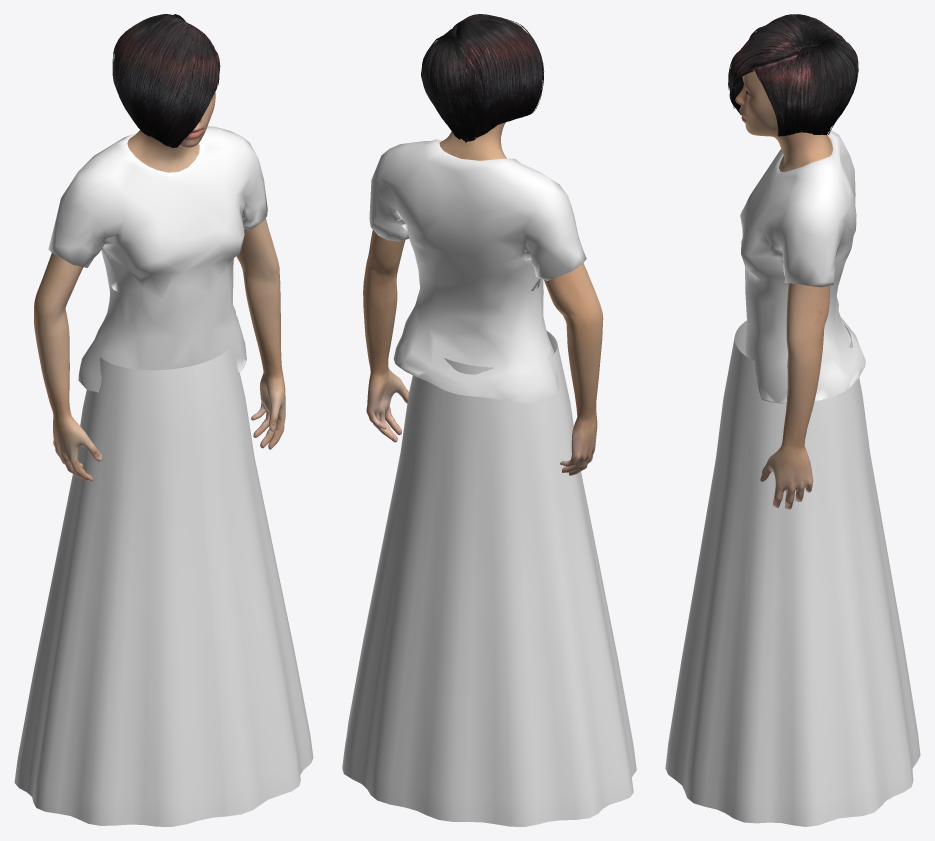
The model's file is woman-gown.glb.
The picture shows the model from 3 angles, left to right: view 1: azimuth 30°, elevation 25°; view 2: azimuth 150°, elevation 25°; view 3: azimuth 270°, elevation 25°; orthographic projection.
Visible parts, largest first — view 1: Draped skirt, female_casualsuit01, Riley | anatomical body, bob01; view 2: Draped skirt, female_casualsuit01, Riley | anatomical body, bob01; view 3: Draped skirt, female_casualsuit01, Riley | anatomical body, bob01.
Part boxes in pixels (box(x1,y1,x2,y2)): Draped skirt: box(14, 347, 313, 826); female_casualsuit01: box(48, 126, 267, 392); Riley | anatomical body: box(34, 92, 285, 481); bob01: box(112, 14, 220, 147); Draped skirt: box(342, 331, 636, 826); female_casualsuit01: box(369, 139, 586, 403); Riley | anatomical body: box(363, 122, 603, 475); bob01: box(421, 14, 544, 142); Draped skirt: box(665, 320, 920, 826); female_casualsuit01: box(740, 130, 865, 403); Riley | anatomical body: box(735, 70, 832, 509); bob01: box(728, 14, 858, 136).
Size of the model in its own units: 1.03 by 2.8 by 0.8517.
Materials: 8 (6 with a texture image).
